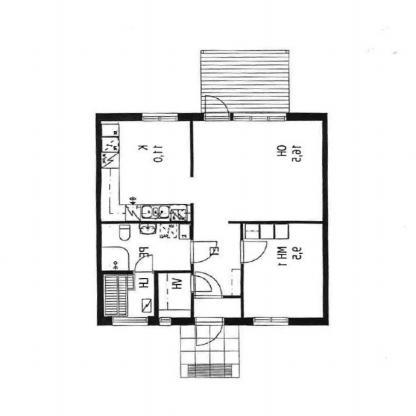door: (192, 314, 228, 348), (199, 92, 233, 126), (235, 239, 275, 265), (187, 238, 220, 269), (189, 269, 223, 299), (129, 252, 158, 276), (186, 276, 214, 294)
window: (229, 109, 288, 125), (136, 107, 183, 125), (107, 314, 153, 330), (247, 314, 296, 327), (156, 315, 174, 328)
